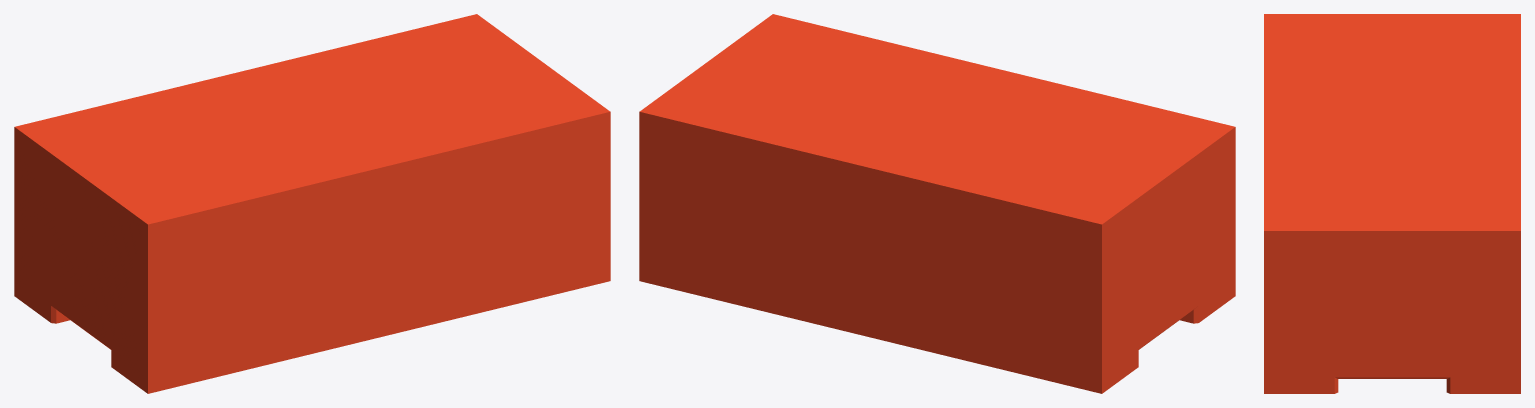
Rendered from SM_Skate_Block_B_City.fbx.
3 renders of one model, left to right at view 1: azimuth 30°, elevation 25°; view 2: azimuth 150°, elevation 25°; view 3: azimuth 270°, elevation 25°, orthographic. The views are drawn at different scales.
Parts seen in each view (by area): view 1: SM_Skate_Block_B_City; view 2: SM_Skate_Block_B_City; view 3: SM_Skate_Block_B_City.
Part boxes in pixels (x1,y1,x2,y2): SM_Skate_Block_B_City: (14, 14, 610, 393); SM_Skate_Block_B_City: (639, 14, 1235, 393); SM_Skate_Block_B_City: (1264, 14, 1520, 393).
Bounding box in the file's own units: 2 × 0.7 × 1.
